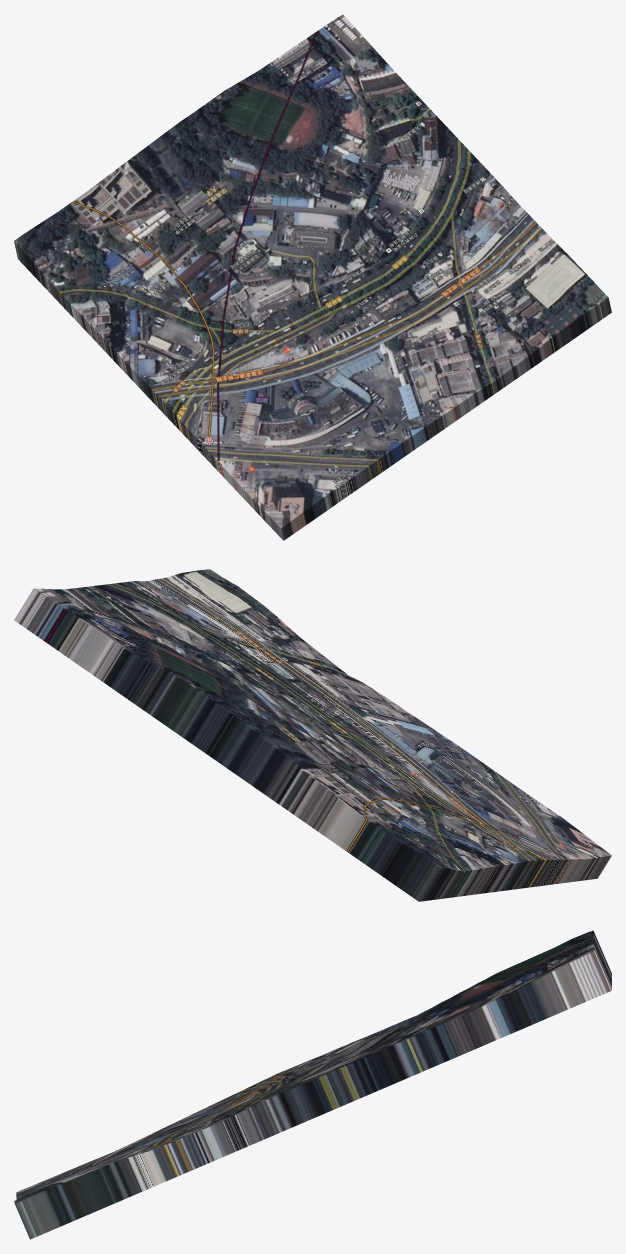
3 views of the same model, one above another, from view 1: azimuth 30°, elevation 25°; view 2: azimuth 150°, elevation 25°; view 3: azimuth 270°, elevation 25° (orthographic). The views are drawn at different scales.
Parts seen in each view (by area): view 1: 0_1_25; view 2: 0_1_25; view 3: 0_1_25.
Boxes of the visible parts, x1,y1,x2,y2 form: 0_1_25: (14, 14, 611, 540); 0_1_25: (14, 569, 611, 901); 0_1_25: (14, 930, 611, 1239).
Size of the model in its own units: 608 by 463 by 557.
Materials: 1 (1 with a texture image).
